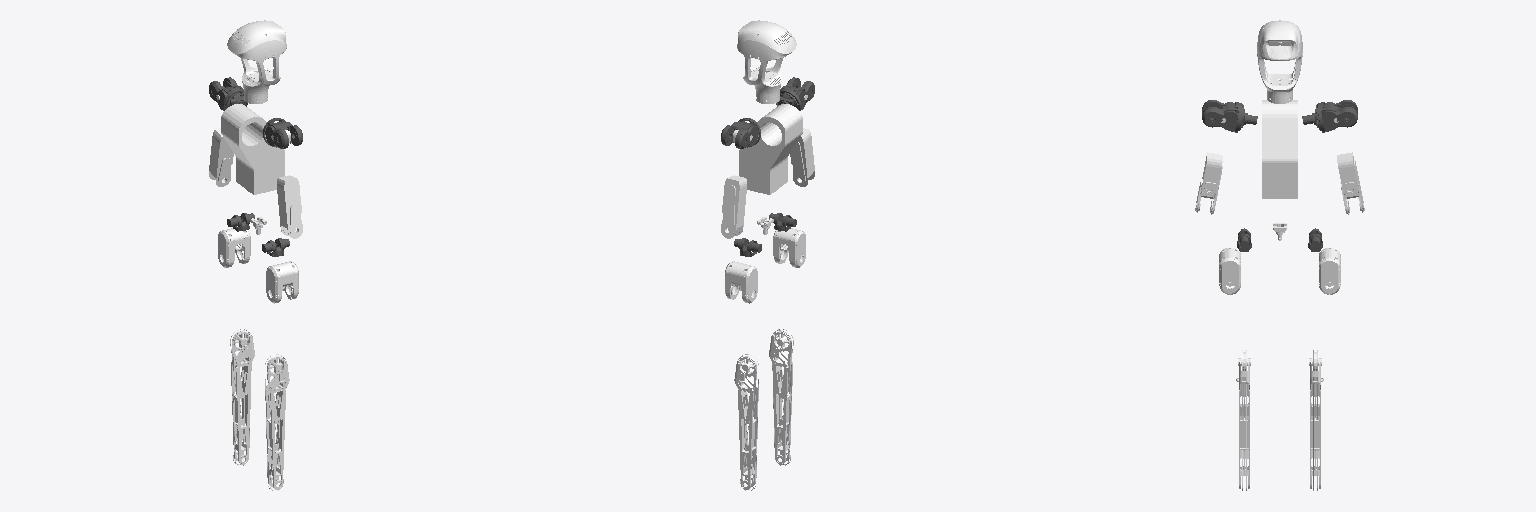
--- Render facts (derived) ---
Views: 3 orthographic renders of the robot side by side, from view 1: azimuth 30°, elevation 25°; view 2: azimuth 150°, elevation 25°; view 3: azimuth 270°, elevation 25°.
Model X02C-22dof with 30 links and 29 joints (23 revolute, 6 fixed), rooted at pelvis, posed every joint at zero.
Links seen in each view (by area): view 1: torso_link, LiDARhead_link, left_knee_link, right_knee_link, right_shoulder_yaw_link, right_hip_pitch_link, left_hip_pitch_link, left_shoulder_yaw_link, right_shoulder_pitch_link, left_shoulder_pitch_link; view 2: torso_link, LiDARhead_link, right_knee_link, left_knee_link, left_shoulder_yaw_link, left_hip_pitch_link, right_hip_pitch_link, right_shoulder_yaw_link, left_shoulder_pitch_link, right_shoulder_pitch_link; view 3: torso_link, LiDARhead_link, right_knee_link, left_knee_link, left_shoulder_pitch_link, right_shoulder_pitch_link, right_hip_pitch_link, left_hip_pitch_link, left_shoulder_yaw_link, right_shoulder_yaw_link.
Boxes of the visible links, x1,y1,x2,y2 form: torso_link: [221, 104, 284, 194]; LiDARhead_link: [227, 20, 286, 103]; left_knee_link: [230, 329, 254, 465]; right_knee_link: [265, 354, 289, 490]; right_shoulder_yaw_link: [277, 175, 302, 238]; right_hip_pitch_link: [266, 261, 298, 303]; left_hip_pitch_link: [218, 228, 250, 267]; left_shoulder_yaw_link: [209, 128, 233, 186]; right_shoulder_pitch_link: [263, 118, 302, 148]; left_shoulder_pitch_link: [209, 77, 247, 110]; torso_link: [739, 104, 802, 194]; LiDARhead_link: [737, 20, 796, 103]; right_knee_link: [769, 329, 793, 465]; left_knee_link: [734, 354, 758, 490]; left_shoulder_yaw_link: [721, 175, 746, 238]; left_hip_pitch_link: [725, 261, 757, 303]; right_hip_pitch_link: [773, 228, 805, 267]; right_shoulder_yaw_link: [790, 128, 814, 186]; left_shoulder_pitch_link: [721, 118, 760, 148]; right_shoulder_pitch_link: [776, 77, 814, 110]; torso_link: [1262, 100, 1297, 198]; LiDARhead_link: [1257, 20, 1302, 103]; right_knee_link: [1236, 350, 1250, 490]; left_knee_link: [1309, 350, 1323, 490]; left_shoulder_pitch_link: [1302, 100, 1357, 132]; right_shoulder_pitch_link: [1202, 100, 1257, 132]; right_hip_pitch_link: [1219, 248, 1240, 294]; left_hip_pitch_link: [1319, 248, 1340, 294]; left_shoulder_yaw_link: [1337, 152, 1364, 214]; right_shoulder_yaw_link: [1195, 152, 1222, 214].
Size in the robot's own frame: 0.2152 by 0.5708 by 1.74 metres.
19 mesh visuals loaded from 30 distinct referenced files (19 binary STL); not drawn: 11 (reference not matched to a file when rendering).

robot.urdf — X02C-22dof:
<robot name="X02C-22dof">

  <mujoco>
    <compiler meshdir="./meshes" discardvisual="false" />
  </mujoco>

  <link name="pelvis">
    <inertial>
      <origin xyz="-1.0007E-18 -6.9124E-19 -0.047022" rpy="0 0 0" />
      <mass value="0.9" />
      <inertia ixx="0.0007894" ixy="2.4776E-20" ixz="-4.6732E-20" iyy="0.0007894" iyz="-1.7565E-20" izz="0.00061446" />
    </inertial>
    <visual>
      <origin xyz="0 0 0" rpy="0 0 0" />
      <geometry>
        <mesh filename="meshes//body/pelvis.STL" />
      </geometry>
      <material name="">
        <color rgba="0.45 0.45 0.45 1" />
      </material>
    </visual>
    <collision>
      <origin xyz="0 0 0" rpy="0 0 0" />
      <geometry>
        <mesh filename="meshes//body/pelvis.STL" />
      </geometry>
    </collision>
  </link>
  <link name="left_hip_yaw_link">
    <inertial>
      <origin xyz="0 0.02717932 0.00194454" rpy="0 0 0" />
      <mass value="0.841" />
      <inertia ixx="0.00200206" ixy="0.00000000" ixz="0.00000000" iyy="0.00054048" iyz="0.00005921" izz="0.00203164" />
    </inertial>
    <visual>
      <origin xyz="0 0 0" rpy="0 0 0" />
      <geometry>
        <mesh filename="meshes/leg/left_hip_yaw_link.STL" />
      </geometry>
      <material name="">
        <color rgba="0.41961 0.41961 0.41961 1" />
      </material>
    </visual>
<!--    <collision>-->
<!--      <origin xyz="0 0 0" rpy="0 0 0" />-->
<!--      <geometry>-->
<!--        <mesh filename="meshes/leg/left_hip_yaw_link.STL" />-->
<!--      </geometry>-->
<!--    </collision>-->
  </link>
  <joint name="left_hip_yaw_joint" type="revolute">
    <origin xyz="0 0 -0.1315" rpy="0 0 0" />
    <parent link="pelvis" />
    <child link="left_hip_yaw_link" />
    <axis xyz="0 0 1" />
    <limit lower="-0.393" upper="0.393" effort="50" velocity="51" />
  </joint>
  <link name="left_hip_roll_link">
    <inertial>
      <origin xyz="-0.034584 0.00017707 -0.071764" rpy="0 0 0" />
      <mass value="2.667" />
      <inertia ixx="0.00982457" ixy="0.00001637" ixz="-0.00165599" iyy="0.01129357" iyz="0.00003469" izz="0.00732501" />
    </inertial>
    <visual>
      <origin xyz="0 0 0" rpy="0 0 0" />
      <geometry>
        <mesh filename="meshes/leg/left_hip_roll_link.STL" />
      </geometry>
      <material name="">
        <color rgba="0.41961 0.41961 0.41961 1" />
      </material>
    </visual>
    <collision>
      <origin xyz="0 0 0" rpy="0 0 0" />
      <geometry>
        <mesh filename="meshes/leg/left_hip_roll_link.STL" />
      </geometry>
    </collision>
  </link>
  <joint name="left_hip_roll_joint" type="revolute">
    <origin xyz="0 0.12 -0.001" rpy="0 0 0" />
    <parent link="left_hip_yaw_link" />
    <child link="left_hip_roll_link" />
    <axis xyz="1 0 0" />
    <limit lower="-0.349" upper="0.534" effort="100" velocity="31" />
  </joint>
  <link name="left_hip_pitch_link">
    <inertial>
      <origin xyz="0.0082287 0 -0.16703084" rpy="0 0 0" />
      <mass value="1.8" />
      <inertia ixx="0.01698928" ixy="0.00000000" ixz="-0.00060774" iyy="0.01770562" iyz="-0.00000002" izz="0.00318692" />
    </inertial>
    <visual>
      <origin xyz="0 0 0" rpy="0 0 0" />
      <geometry>
        <mesh filename="meshes/leg/left_hip_pitch_link.STL" />
      </geometry>
      <material name="">
        <color rgba="1.43 1.43 1.43 1" />
      </material>
    </visual>
    <collision>
      <origin xyz="0 0 0" rpy="0 0 0" />
      <geometry>
        <mesh filename="meshes/leg/left_hip_pitch_link.STL" />
      </geometry>
    </collision>
  </link>
  <joint name="left_hip_pitch_joint" type="revolute">
    <origin xyz="0 0 -0.11" rpy="0 0 0" />
    <parent link="left_hip_roll_link" />
    <child link="left_hip_pitch_link" />
    <axis xyz="0 1 0" />
    <limit lower="-2.094" upper="0.534" effort="212" velocity="58.7" />
  </joint>
  <link name="left_knee_link">
    <inertial>
      <origin xyz="0.00111166 0 -0.14609747" rpy="0 0 0" />
      <mass value="1.125" />
      <inertia ixx="0.01158049" ixy="0.00000000" ixz="0.00032335" iyy="0.01172026" iyz="-0.00000001" izz="0.00121827" />
    </inertial>
    <visual>
      <origin xyz="0 0 0" rpy="0 0 0" />
      <geometry>
        <mesh filename="meshes/leg/left_knee_link.STL" />
      </geometry>
      <material name="">
        <color rgba="1.43 1.43 1.43 1" />
      </material>
    </visual>
    <collision>
      <origin xyz="0 0 0" rpy="0 0 0" />
      <geometry>
        <mesh filename="meshes/leg/left_knee_link.STL" />
      </geometry>
    </collision>
  </link>
  <joint name="left_knee_joint" type="revolute">
    <origin xyz="0 0 -0.35" rpy="0 0 0" />
    <parent link="left_hip_pitch_link" />
    <child link="left_knee_link" />
    <axis xyz="0 1 0" />
    <limit lower="0" upper="2.269" effort="93" velocity="150" />
  </joint>
  <!-- <link name="left_ankle_pitch_link">
    <inertial>
      <origin xyz="0.0062069 0.00058964 -0.076695" rpy="0 0 0" />
      <mass value="0.8" />
      <inertia ixx="0.00039216" ixy="-4.0466E-05" ixz="-9.319E-05" iyy="0.0032859" iyz="-1.1297E-06" izz="0.0035479" />
    </inertial>
    <visual>
      <origin xyz="0 0 0" rpy="0 0 0" />
      <geometry>
        <mesh filename="meshes/leg/left_ankle_pitch_link.STL" />
      </geometry>
      <material name="">
        <color rgba="0.45 0.45 0.45 1" />
      </material>
    </visual>
    <collision>
      <origin xyz="0 0 0" rpy="0 0 0" />
      <geometry>
        <mesh filename="meshes/leg/left_ankle_pitch_link.STL" />
      </geometry>
    </collision>
  </link>
  <joint name="left_ankle_pitch_joint" type="revolute">
    <origin xyz="0 0 -0.35" rpy="0 0 0" />
    <parent link="left_knee_link" />
    <child link="left_ankle_pitch_link" />
    <axis xyz="0 1 0" />
    <limit lower="-1.047" upper="1.047" effort="64.8" velocity="216.66" />
  </joint> -->
  <link name="left_ankle_pitch_link">
    <inertial>
      <origin xyz="0 0 -0.03720405" rpy="0 0 0" />
      <mass value="0.2" />
      <inertia ixx="0.000193480443387712" ixy="1.77346258645289E-21" ixz="1.8701971487315E-17" iyy="0.000212196305121686" iyz="-4.94858303884928E-20" izz="7.03112206534629E-05" />
    </inertial>
    <visual>
      <origin xyz="0 0 0" rpy="0 0 0" />
      <geometry>
        <mesh filename="meshes/leg/left_ankle_pitch_link.STL" />
      </geometry>
      <material name="">
        <color rgba="0.419607843137255 0.419607843137255 0.419607843137255 1" />
      </material>
    </visual>
    <collision>
      <origin xyz="0 0 0" rpy="0 0 0" />
      <geometry>
        <mesh filename="meshes/leg/left_ankle_pitch_link.STL" />
      </geometry>
    </collision>
  </link>
  <joint name="left_ankle_pitch_joint" type="revolute">
    <origin xyz="0 0 -0.35" rpy="0 0 0" />
    <parent link="left_knee_link" />
    <child link="left_ankle_pitch_link" />
    <axis xyz="0 1 0" />
    <limit lower="-1.047" upper="1.047" effort="64.8" velocity="216.66" />
  </joint>
  <link name="left_ankle_roll_link">
    <inertial>
      <origin xyz="0.04871205 -0.00000742 -0.00856332" rpy="0 0 0" />
      <mass value="1" />
      <inertia ixx="0.00078296" ixy="-4.7701E-08" ixz="0.00031141" iyy="0.0065554" iyz="5.4255E-09" izz="0.0070348" />
    </inertial>
    <visual>
      <origin xyz="0 0 0" rpy="0 0 0" />
      <geometry>
        <mesh filename="meshes/leg/left_ankle_roll_link.STL" />
      </geometry>
      <material name="">
        <color rgba="1.43 1.43 1.43 1" />
      </material>
    </visual>
<!--    <collision>-->
<!--      <origin xyz="0 0 0" rpy="0 0 0" />-->
<!--      <geometry>-->
<!--        <mesh filename="meshes/leg/left_ankle_roll_link.STL" />-->
<!--      </geometry>-->
<!--    </collision>-->
  </link>
  <joint name="left_ankle_roll_joint" type="revolute">
    <origin xyz="0 0 -0.058" rpy="0 0 0" />
    <parent link="left_ankle_pitch_link" />
    <child link="left_ankle_roll_link" />
    <axis xyz="1 0 0" />
    <limit lower="-0.5236" upper="0.5236" effort="7.7" velocity="20" />
  </joint>
  <link name="right_hip_yaw_link">
    <inertial>
      <origin xyz="0 -0.050494 0.006108" rpy="0 0 0" />
      <mass value="0.947" />
      <inertia ixx="0.00267262" ixy="0.00000000" ixz="0.00000000" iyy="0.00076622" iyz="0.000070555" izz="0.00231603" />
    </inertial>
    <visual>
      <origin xyz="0 0 0" rpy="0 0 0" />
      <geometry>
        <mesh filename="meshes/leg/right_hip_yaw_link.STL" />
      </geometry>
      <material name="">
        <color rgba="0.41961 0.41961 0.41961 1" />
      </material>
    </visual>
<!--    <collision>-->
<!--      <origin xyz="0 0 0" rpy="0 0 0" />-->
<!--      <geometry>-->
<!--        <mesh filename="meshes/leg/right_hip_yaw_link.STL" />-->
<!--      </geometry>-->
<!--    </collision>-->
  </link>
  <joint name="right_hip_yaw_joint" type="revolute">
    <origin xyz="0 0 -0.1315" rpy="0 0 0" />
    <parent link="pelvis" />
    <child link="right_hip_yaw_link" />
    <axis xyz="0 0 1" />
    <limit lower="-0.393" upper="0.393" effort="50" velocity="51" />
  </joint>
  <link name="right_hip_roll_link">
    <inertial>
      <origin xyz="-0.034584 -0.00017759 -0.071763" rpy="0 0 0" />
      <mass value="2.667" />
      <inertia ixx="0.00982480" ixy="-0.00001634" ixz="-0.00165597" iyy="0.01129380" iyz="-0.00003463" izz="0.00732491" />
    </inertial>
    <visual>
      <origin xyz="0 0 0" rpy="0 0 0" />
      <geometry>
        <mesh filename="meshes/leg/right_hip_roll_link.STL" />
      </geometry>
      <material name="">
        <color rgba="0.41961 0.41961 0.41961 1" />
      </material>
    </visual>
    <collision>
      <origin xyz="0 0 0" rpy="0 0 0" />
      <geometry>
        <mesh filename="meshes/leg/right_hip_roll_link.STL" />
      </geometry>
    </collision>
  </link>
  <joint name="right_hip_roll_joint" type="revolute">
    <origin xyz="0 -0.12 -0.001" rpy="0 0 0" />
    <parent link="right_hip_yaw_link" />
    <child link="right_hip_roll_link" />
    <axis xyz="1 0 0" />
    <limit lower="-0.534" upper="0.349" effort="100" velocity="31" />
  </joint>
  <link name="right_hip_pitch_link">
    <inertial>
      <origin xyz="0.0082287 0 -0.16703110" rpy="0 0 0" />
      <mass value="1.8" />
      <inertia ixx="0.01698931" ixy="0.00000000" ixz="-0.00060774" iyy="0.01770564" iyz="-0.00000004" izz="0.00318691" />
    </inertial>
    <visual>
      <origin xyz="0 0 0" rpy="0 0 0" />
      <geometry>
        <mesh filename="meshes/leg/right_hip_pitch_link.STL" />
      </geometry>
      <material name="">
        <color rgba="1.43 1.43 1.43 1" />
      </material>
    </visual>
    <collision>
      <origin xyz="0 0 0" rpy="0 0 0" />
      <geometry>
        <mesh filename="meshes/leg/right_hip_pitch_link.STL" />
      </geometry>
    </collision>
  </link>
  <joint name="right_hip_pitch_joint" type="revolute">
    <origin xyz="0 0 -0.11" rpy="0 0 0" />
    <parent link="right_hip_roll_link" />
    <child link="right_hip_pitch_link" />
    <axis xyz="0 1 0" />
    <limit lower="-2.094" upper="0.534" effort="212" velocity="58.7" />
  </joint>
  <link name="right_knee_link">
    <inertial>
      <origin xyz="0.00111164 0 -0.14609739" rpy="0 0 0" />
      <mass value="1.125" />
      <inertia ixx="0.01158055" ixy="0.00000000" ixz="0.00032334" iyy="0.01172033" iyz="-0.00000001" izz="0.00121827" />
    </inertial>
    <visual>
      <origin xyz="0 0 0" rpy="0 0 0" />
      <geometry>
        <mesh filename="meshes/leg/right_knee_link.STL" />
      </geometry>
      <material name="">
        <color rgba="1.43 1.43 1.43 1" />
      </material>
    </visual>
    <collision>
      <origin xyz="0 0 0" rpy="0 0 0" />
      <geometry>
        <mesh filename="meshes/leg/right_knee_link.STL" />
      </geometry>
    </collision>
  </link>
  <joint name="right_knee_joint" type="revolute">
    <origin xyz="0 0 -0.35" rpy="0 0 0" />
    <parent link="right_hip_pitch_link" />
    <child link="right_knee_link" />
    <axis xyz="0 1 0" />
    <limit lower="0" upper="2.269" effort="93" velocity="150" />
  </joint>
  <!-- <link name="right_ankle_pitch_link">
    <inertial>
      <origin xyz="0.0062069 -0.00058964 -0.076695" rpy="0 0 0" />
      <mass value="0.8" />
      <inertia ixx="0.00039216" ixy="-4.0466E-05" ixz="-9.319E-05" iyy="0.0032859" iyz="-1.1297E-06" izz="0.0035479" />
    </inertial>
    <visual>
      <origin xyz="0 0 0" rpy="0 0 0" />
      <geometry>
        <mesh filename="meshes/leg/right_ankle_pitch_link.STL" />
      </geometry>
      <material name="">
        <color rgba="0.45 0.45 0.45 1" />
      </material>
    </visual>
    <collision>
      <origin xyz="0 0 0" rpy="0 0 0" />
      <geometry>
        <mesh filename="meshes/leg/right_ankle_pitch_link.STL" />
      </geometry>
    </collision>
  </link>
  <joint name="right_ankle_pitch_joint" type="revolute">
    <origin xyz="0 0 -0.35" rpy="0 -0.0012589 0" />
    <parent link="right_knee_link" />
    <child link="right_ankle_pitch_link" />
    <axis xyz="0 1 0" />
    <limit lower="-1.047" upper="1.047" effort="64.8" velocity="216.66" />
  </joint> -->
  <link name="right_ankle_pitch_link">
    <inertial>
      <origin xyz="0 0 -0.03720405" rpy="0 0 0" />
      <mass value="0.2" />
      <inertia ixx="0.000193480443387716" ixy="8.18429100191069E-21" ixz="1.87984204635664E-17" iyy="0.00021219630512169" iyz="-7.24048296482114E-20" izz="7.03112206534629E-05" />
    </inertial>
    <visual>
      <origin xyz="0 0 0" rpy="0 0 0" />
      <geometry>
        <mesh filename="meshes/leg/right_ankle_pitch_link.STL" />
      </geometry>
      <material name="">
        <color rgba="0.419607843137255 0.419607843137255 0.419607843137255 1" />
      </material>
    </visual>
    <collision>
      <origin xyz="0 0 0" rpy="0 0 0" />
      <geometry>
        <mesh filename="meshes/leg/right_ankle_pitch_link.STL" />
      </geometry>
    </collision>
  </link>
  <joint name="right_ankle_pitch_joint" type="revolute">
    <origin xyz="0 0 -0.35" rpy="0 0 0" />
    <parent link="right_knee_link" />
    <child link="right_ankle_pitch_link" />
    <axis xyz="0 1 0" />
    <limit lower="-1.047" upper="1.047" effort="64.8" velocity="216.66" />
  </joint>
  <link name="right_ankle_roll_link">
    <inertial>
      <origin xyz="0.04871205 -0.00000742 -0.00856332" rpy="0 0 0" />
      <mass value="1" />
      <inertia ixx="0.000782962583512438" ixy="-4.76211443387741E-08" ixz="0.000311406184530333" iyy="0.00655536295881039" iyz="5.43640997216812E-09" izz="0.00703478064353501" />
    </inertial>
    <visual>
      <origin xyz="0 0 0" rpy="0 0 0" />
      <geometry>
        <mesh filename="meshes/leg/right_ankle_roll_link.STL" />
      </geometry>
      <material name="">
        <color rgba="1.43 1.43 1.43 1" />
      </material>
    </visual>
<!--    <collision>-->
<!--      <origin xyz="0 0 0" rpy="0 0 0" />-->
<!--      <geometry>-->
<!--        <mesh filename="meshes/leg/right_ankle_roll_link.STL" />-->
<!--      </geometry>-->
<!--    </collision>-->
  </link>
  <joint name="right_ankle_roll_joint" type="revolute">
    <origin xyz="0 0 -0.058" rpy="0 0 0" />
    <parent link="right_ankle_pitch_link" />
    <child link="right_ankle_roll_link" />
    <axis xyz="1 0 0" />
    <limit lower="-0.5236" upper="0.5236" effort="7.7" velocity="20" />
  </joint>
  <link name="waist_yaw_link">
    <inertial>
      <origin xyz="0 0 0.133" rpy="0 0 0" />
      <mass value="0.2" />
      <inertia ixx="0.00008362" ixy="0" ixz="0" iyy="0.00008362" iyz="0" izz="0.00016695" />
    </inertial>
    <visual>
      <origin xyz="0 0 0" rpy="0 0 0" />
      <geometry>
        <mesh filename="meshes/body/waist_yaw_link.STL" />
      </geometry>
      <material name="">
        <color rgba="1 1 1 1" />
      </material>
    </visual>
    <collision>
      <origin xyz="0 0 0" rpy="0 0 0" />
      <geometry>
        <mesh filename="meshes/body/waist_yaw_link.STL" />
      </geometry>
    </collision>
  </link>
  <joint name="waist_yaw" type="revolute">
    <origin xyz="0 0 -0.1315" rpy="0 0 0" />
    <parent link="pelvis" />
    <child link="waist_yaw_link" />
    <axis xyz="0 0 1" />
    <limit lower="-0.829" upper="0.829" effort="50" velocity="51" />
  </joint>
  <link name="torso_link">
    <inertial>
      <origin xyz="-0.00504342 -0.00000342 0.21297308" rpy="0 0 0" />
      <mass value="11" />
      <inertia ixx="0.29766308" ixy="-0.0000005" ixz="-0.00360754" iyy="0.27862266" iyz="0.0000039" izz="0.09552069" />
    </inertial>
    <visual>
      <origin xyz="0 0 0" rpy="0 0 0" />
      <geometry>
        <mesh filename="meshes/body/torso_link.STL" />
      </geometry>
      <material name="">
        <color rgba="1.43 1.43 1.43 1" />
      </material>
    </visual>
    <collision>
      <origin xyz="0 0 0" rpy="0 0 0" />
      <geometry>
        <mesh filename="meshes/body/torso_link.STL" />
      </geometry>
    </collision>
  </link>
  <joint name="torso" type="fixed">
    <origin xyz="0 0 0.1315" rpy="0 0 0" />
    <parent link="waist_yaw_link" />
    <child link="torso_link" />
    <axis xyz="0 0 0" />
  </joint>
  <link name="logo_link">
    <inertial>
      <origin xyz="-0.0156269478670673 -6.71039690149521E-06 0.22276247695792" rpy="0 0 0" />
      <mass value="0.01" />
      <inertia ixx="0.0107657133639479" ixy="-4.60936751759954E-07" ixz="1.6428532509308E-05" iyy="0.00543198333978734" iyz="-7.24997239448769E-07" izz="0.0134783075849656" />
    </inertial>
    <visual>
      <origin xyz="0 0 0" rpy="0 0 0" />
      <geometry>
        <mesh filename="meshes/body/logo_link.STL" />
      </geometry>
      <material name="">
        <color rgba="0 0 0 1" />
      </material>
    </visual>
    <collision>
      <origin xyz="0 0 0" rpy="0 0 0" />
      <geometry>
        <mesh filename="meshes/body/logo_link.STL" />
      </geometry>
    </collision>
  </link>
  <joint name="logo_joint" type="fixed">
    <origin xyz="0 0 0" rpy="0 0 0" />
    <parent link="torso_link" />
    <child link="logo_link" />
    <axis xyz="0 0 0" />
  </joint>
  <link name="LiDARhead_link">
    <inertial>
      <origin xyz="0.02304564 0 0.20097708" rpy="0 0 0" />
      <mass value="2" />
      <inertia ixx="0.00600845" ixy="0" ixz="0.00027683" iyy="0.00669709" iyz="0.00000003" izz="0.00330564" />
    </inertial>
    <visual>
      <origin xyz="0 0 0" rpy="0 0 0" />
      <geometry>
        <mesh filename="meshes/sensor/LiDARhead_link.STL" />
      </geometry>
      <material name="">
        <color rgba="1 1 1 1" />
      </material>
    </visual>
    <collision>
      <origin xyz="0 0 0" rpy="0 0 0" />
      <geometry>
        <mesh filename="meshes/sensor/LiDARhead_link.STL" />
      </geometry>
    </collision>
  </link>
  <joint name="LiDARhead_joint" type="fixed">
    <origin xyz="-0.01 0 0.3575" rpy="0 0 0" />
    <parent link="torso_link" />
    <child link="LiDARhead_link" />
    <axis xyz="0 0 0" />
  </joint>
  <link name="left_shoulder_pitch_link">
    <inertial>
      <origin xyz="0 0.02913267 0" rpy="0 0 0" />
      <mass value="0.276" />
      <inertia ixx="0.00019627" ixy="0" ixz="0" iyy="0.00021249" iyz="0" izz="0.00033854" />
    </inertial>
    <visual>
      <origin xyz="0 0 0" rpy="0 0 0" />
      <geometry>
        <mesh filename="meshes/arm/left_shoulder_pitch_link.STL" />
      </geometry>
      <material name="">
        <color rgba="0.419607843137255 0.419607843137255 0.419607843137255 1" />
      </material>
    </visual>
    <collision>
      <origin xyz="0 0 0" rpy="0 0 0" />
      <geometry>
        <mesh filename="meshes/arm/left_shoulder_pitch_link.STL" />
      </geometry>
    </collision>
  </link>
  <joint name="left_shoulder_pitch_joint" type="revolute">
    <origin xyz="-0.01 0.13365 0.31135" rpy="0.17453 0 0" />
    <parent link="torso_link" />
    <child link="left_shoulder_pitch_link" />
    <axis xyz="0 1 0" />
    <limit lower="-2.749" upper="2.749" effort="18" velocity="36" />
  </joint>
  <link name="left_shoulder_roll_link">
    <inertial>
      <origin xyz="0.000132649636071396 0.00797092570604596 -0.0452123729439791" rpy="0 0 0" />
      <mass value="1.126" />
      <inertia ixx="0.00147895653317204" ixy="-3.2910073590523E-07" ixz="1.87137523621959E-06" iyy="0.0014110761279569" iyz="0.00014229856792806" izz="0.000629153731234365" />
    </inertial>
    <visual>
      <origin xyz="0 0 0" rpy="0 0 0" />
      <geometry>
        <mesh filename="meshes/arm/left_shoulder_roll_link.STL" />
      </geometry>
      <material name="">
        <color rgba="1.43 1.43 1.43 1" />
      </material>
    </visual>
    <collision>
      <origin xyz="0 0 0" rpy="0 0 0" />
      <geometry>
        <mesh filename="meshes/arm/left_shoulder_roll_link.STL" />
      </geometry>
    </collision>
  </link>
  <joint name="left_shoulder_roll_joint" type="revolute">
    <origin xyz="0 0.0588 0" rpy="-0.17453 0 0" />
    <parent link="left_shoulder_pitch_link" />
    <child link="left_shoulder_roll_link" />
    <axis xyz="1 0 0" />
    <limit lower="-0.175" upper="2.653" effort="14" velocity="36" />
  </joint>
  <link name="left_shoulder_yaw_link">
    <inertial>
      <origin xyz="-0.00093704 0 -0.07735342" rpy="0 0 0" />
      <mass value="0.896" />
      <inertia ixx="0.00232863" ixy="0" ixz="-0.00005483" iyy="0.00227734" iyz="-0.00000003" izz="0.00068771" />
    </inertial>
    <visual>
      <origin xyz="0 0 0" rpy="0 0 0" />
      <geometry>
        <mesh filename="meshes/arm/left_shoulder_yaw_link.STL" />
      </geometry>
      <material name="">
        <color rgba="1.43 1.43 1.43 1" />
      </material>
    </visual>
    <collision>
      <origin xyz="0 0 0" rpy="0 0 0" />
      <geometry>
        <mesh filename="meshes/arm/left_shoulder_yaw_link.STL" />
      </geometry>
    </collision>
  </link>
  <joint name="left_shoulder_yaw_joint" type="revolute">
    <origin xyz="0 0.018928 -0.10734" rpy="0.17453 0 0" />
    <parent link="left_shoulder_roll_link" />
    <child link="left_shoulder_yaw_link" />
    <axis xyz="0 0 1" />
    <limit lower="-2.618" upper="2.618" effort="14" velocity="36" />
  </joint>
  <link name="left_elbow_link">
    <inertial>
      <origin xyz="0.094558 -0.00000142 -0.01096899" rpy="0 0 0" />
      <mass value="0.576" />
      <inertia ixx="0.00037157" ixy="0.00000002" ixz="0.00007431" iyy="0.00166805" iyz="0" izz="0.00168873" />
    </inertial>
    <visual>
      <origin xyz="0 0 0" rpy="0 0 0" />
      <geometry>
        <mesh filename="meshes/arm/left_elbow_link.STL" />
      </geometry>
      <material name="">
        <color rgba="1.43 1.43 1.43 1" />
      </material>
    </visual>
    <collision>
      <origin xyz="0 0 0" rpy="0 0 0" />
      <geometry>
        <mesh filename="meshes/arm/left_elbow_link.STL" />
      </geometry>
    </collision>
  </link>
  <joint name="left_elbow_joint" type="revolute">
    <origin xyz="0.01 0 -0.151" rpy="0 0 0" />
    <parent link="left_shoulder_yaw_link" />
    <child link="left_elbow_link" />
    <axis xyz="0 1 0" />
    <limit lower="-0.873" upper="1.571" effort="14" velocity="36" />
  </joint>
  <link name="left_wrist_roll_link">
    <inertial>
      <origin xyz="0.0750540150567931 -0.00332325697592686 0.00545988837194125" rpy="0 0 0" />
      <mass value="0.692" />
      <inertia ixx="0.000201713138799491" ixy="3.10486462595001E-05" ixz="-1.08851683373094E-05" iyy="0.000582925516717639" iyz="5.89186596698041E-05" izz="0.000537892729539226" />
    </inertial>
    <visual>
      <origin xyz="0 0 0" rpy="0 0 0" />
      <geometry>
        <mesh filename="meshes/arm/left_wrist_roll_link.STL" />
      </geometry>
      <material name="">
        <color rgba="0.419607843137255 0.419607843137255 0.419607843137255 1" />
      </material>
    </visual>
    <collision>
      <origin xyz="0 0 0" rpy="0 0 0" />
      <geometry>
        <mesh filename="meshes/arm/left_wrist_roll_link.STL" />
      </geometry>
    </collision>
  </link>
  <joint name="left_wrist_roll_joint" type="revolute">
    <origin xyz="0.201 0 -0.01" rpy="-0.17453 0 0" />
    <parent link="left_elbow_link" />
    <child link="left_wrist_roll_link" />
    <axis xyz="1 0 0" />
    <limit lower="-2.662" upper="2.662" effort="2.2" velocity="36" />
  </joint>
  <link name="right_shoulder_pitch_link">
    <inertial>
      <origin xyz="0 -0.02913268 0" rpy="0 0 0" />
      <mass value="0.276" />
      <inertia ixx="0.00019627" ixy="0" ixz="0" iyy="0.00021249" iyz="0" izz="0.00033854" />
    </inertial>
    <visual>
      <origin xyz="0 0 0" rpy="0 0 0" />
      <geometry>
        <mesh filename="meshes/arm/right_shoulder_pitch_link.STL" />
      </geometry>
      <material name="">
        <color rgba="0.419607843137255 0.419607843137255 0.419607843137255 1" />
      </material>
    </visual>
    <collision>
      <origin xyz="0 0 0" rpy="0 0 0" />
      <geometry>
        <mesh filename="meshes/arm/right_shoulder_pitch_link.STL" />
      </geometry>
    </collision>
  </link>
  <joint name="right_shoulder_pitch_joint" type="revolute">
    <origin xyz="-0.01 -0.13365 0.31135" rpy="-0.17453 0 0" />
    <parent link="torso_link" />
    <child link="right_shoulder_pitch_link" />
    <axis xyz="0 1 0" />
    <limit lower="-2.749" upper="2.749" effort="18" velocity="36" />
  </joint>
  <link name="right_shoulder_roll_link">
    <inertial>
      <origin xyz="0.000132993704568058 -0.00797311460563502 -0.0452117001578095" rpy="0 0 0" />
      <mass value="1.126" />
      <inertia ixx="0.00147895611802897" ixy="3.31494377717319E-07" ixz="1.87169668439229E-06" iyy="0.00141107336129469" iyz="-0.000142297630828012" izz="0.000629151068523018" />
    </inertial>
    <visual>
      <origin xyz="0 0 0" rpy="0 0 0" />
      <geometry>
        <mesh filename="meshes/arm/right_shoulder_roll_link.STL" />
      </geometry>
      <material name="">
        <color rgba="1.43 1.43 1.43 1" />
      </material>
    </visual>
    <collision>
      <origin xyz="0 0 0" rpy="0 0 0" />
      <geometry>
        <mesh filename="meshes/arm/right_shoulder_roll_link.STL" />
      </geometry>
    </collision>
  </link>
  <joint name="right_shoulder_roll_joint" type="revolute">
    <origin xyz="0 -0.0588 0" rpy="0.17453 0 0" />
    <parent link="right_shoulder_pitch_link" />
    <child link="right_shoulder_roll_link" />
    <axis xyz="1 0 0" />
    <limit lower="-2.653" upper="0.175" effort="14" velocity="36" />
  </joint>
  <link name="right_shoulder_yaw_link">
    <inertial>
      <origin xyz="-0.0009376 0 -0.07735381" rpy="0 0 0" />
      <mass value="0.896" />
      <inertia ixx="0.00232864" ixy="-0.00000001" ixz="-0.00005482" iyy="0.00227735" iyz="0.00000002" izz="0.00068771" />
    </inertial>
    <visual>
      <origin xyz="0 0 0" rpy="0 0 0" />
      <geometry>
        <mesh filename="meshes/arm/right_shoulder_yaw_link.STL" />
      </geometry>
      <material name="">
        <color rgba="1.43 1.43 1.43 1" />
      </material>
    </visual>
    <collision>
      <origin xyz="0 0 0" rpy="0 0 0" />
      <geometry>
        <mesh filename="meshes/arm/right_shoulder_yaw_link.STL" />
      </geometry>
    </collision>
  </link>
  <joint name="right_shoulder_yaw_joint" type="revolute">
    <origin xyz="0 -0.018928 -0.10734" rpy="-0.17453 0 0" />
    <parent link="right_shoulder_roll_link" />
    <child link="right_shoulder_yaw_link" />
    <axis xyz="0 0 1" />
    <limit lower="-2.618" upper="2.618" effort="14" velocity="36" />
  </joint>
  <link name="right_elbow_link">
    <inertial>
      <origin xyz="0.09455648 0 -0.01096866" rpy="0 0 0" />
      <mass value="0.576" />
      <inertia ixx="0.00037157" ixy="0.00000000" ixz="0.00007430" iyy="0.00166798" iyz="0.00000000" izz="0.00168869" />
    </inertial>
    <visual>
      <origin xyz="0 0 0" rpy="0 0 0" />
      <geometry>
        <mesh filename="meshes/arm/right_elbow_link.STL" />
      </geometry>
      <material name="">
        <color rgba="1.43 1.43 1.43 1" />
      </material>
    </visual>
    <collision>
      <origin xyz="0 0 0" rpy="0 0 0" />
      <geometry>
        <mesh filename="meshes/arm/right_elbow_link.STL" />
      </geometry>
    </collision>
  </link>
  <joint name="right_elbow_joint" type="revolute">
    <origin xyz="0.01 0 -0.151" rpy="0 0 0" />
    <parent link="right_shoulder_yaw_link" />
    <child link="right_elbow_link" />
    <axis xyz="0 1 0" />
    <limit lower="-0.873" upper="1.571" effort="14" velocity="36" />
  </joint>
  <link name="right_wrist_roll_link">
    <inertial>
      <origin xyz="0.0750546041268602 0.00332420954903981 0.0054573869223207" rpy="0 0 0" />
      <mass value="0.692" />
      <inertia ixx="0.00020172769789739" ixy="-3.10498593261659E-05" ixz="-1.08851122263175E-05" iyy="0.000582928121150921" iyz="-5.89257229189113E-05" izz="0.000537898939865876" />
    </inertial>
    <visual>
      <origin xyz="0 0 0" rpy="0 0 0" />
      <geometry>
        <mesh filename="meshes/arm/right_wrist_roll_link.STL" />
      </geometry>
      <material name="">
        <color rgba="0.419607843137255 0.419607843137255 0.419607843137255 1" />
      </material>
    </visual>
    <collision>
      <origin xyz="0 0 0" rpy="0 0 0" />
      <geometry>
        <mesh filename="meshes/arm/right_wrist_roll_link.STL" />
      </geometry>
    </collision>
  </link>
  <joint name="right_wrist_roll_joint" type="revolute">
    <origin xyz="0.201 0 -0.01" rpy="0.17453 0 0" />
    <parent link="right_elbow_link" />
    <child link="right_wrist_roll_link" />
    <axis xyz="1 0 0" />
    <limit lower="-2.662" upper="2.662" effort="2.2" velocity="36" />
  </joint>
  <link name="MID360_link">
    <inertial>
      <origin xyz="0.000569786921663856 6.22844217844042E-06 -0.0220401664545309" rpy="0 0 0" />
      <mass value="0.3" />
      <inertia ixx="4.18423443074486E-05" ixy="5.76559890435628E-09" ixz="-1.24698697193592E-06" iyy="4.50694430949434E-05" iyz="-3.83423977469066E-10" izz="6.87454145760725E-05" />
    </inertial>
    <visual>
      <origin xyz="0 0 0" rpy="0 0 0" />
      <geometry>
        <mesh filename="meshes/sensor/MID360_link.STL" />
      </geometry>
      <material name="">
        <color rgba="0.862745098039216 0.862745098039216 0.862745098039216 1" />
      </material>
    </visual>
    <collision>
      <origin xyz="0 0 0" rpy="0 0 0" />
      <geometry>
        <mesh filename="meshes/sensor/MID360_link.STL" />
      </geometry>
    </collision>
  </link>
  <joint name="MID360_joint" type="fixed">
    <origin xyz="0 0 0.603" rpy="0 0.034907 0" />
    <parent link="torso_link" />
    <child link="MID360_link" />
    <axis xyz="0 0 0" />
  </joint>
  <link name="D435_link">
    <inertial>
      <origin xyz="0.0118430628893811 0.00164727535834486 -5.14915099031343E-06" rpy="0 0 0" />
      <mass value="0.15" />
      <inertia ixx="2.4042499669401E-05" ixy="-2.05774284021089E-07" ixz="1.88141158490881E-09" iyy="2.71841929427118E-06" iyz="2.77082312882969E-10" izz="2.33247667738034E-05" />
    </inertial>
    <visual>
      <origin xyz="0 0 0" rpy="0 0 0" />
      <geometry>
        <mesh filename="meshes/sensor/D435_link.STL" />
      </geometry>
      <material name="">
        <color rgba="0.247058823529412 0.592156862745098 0.627450980392157 1" />
      </material>
    </visual>
    <collision>
      <origin xyz="0 0 0" rpy="0 0 0" />
      <geometry>
        <mesh filename="meshes/sensor/D435_link.STL" />
      </geometry>
    </collision>
  </link>
  <joint name="D435_joint" type="fixed">
    <origin xyz="0.057928 0 0.59381" rpy="0 0.95993 0" />
    <parent link="torso_link" />
    <child link="D435_link" />
    <axis xyz="0 0 0" />
  </joint>
  <link name="Camera_link">
    <inertial>
      <origin xyz="-0.013281 3.3886E-05 -0.032352" rpy="0 0 0" />
      <mass value="0.1" />
      <inertia ixx="0.00017483" ixy="1.737E-07" ixz="-7.4196E-05" iyy="0.00032139" iyz="1.2981E-07" izz="0.00034561" />
    </inertial>
    <visual>
      <origin xyz="0 0 0" rpy="0 0 0" />
      <geometry>
        <mesh filename="meshes/sensor/Camera_link.STL" />
      </geometry>
      <material name="">
        <color rgba="1 1 1 1" />
      </material>
    </visual>
    <collision>
      <origin xyz="0 0 0" rpy="0 0 0" />
      <geometry>
        <mesh filename="meshes/sensor/Camera_link.STL" />
      </geometry>
    </collision>
  </link>
  <joint name="Camera_joint" type="fixed">
    <origin xyz="0.04205 0 0.6345" rpy="0 0.2618 0" />
    <parent link="torso_link" />
    <child link="Camera_link" />
    <axis xyz="0 0 0" />
  </joint>
</robot>
